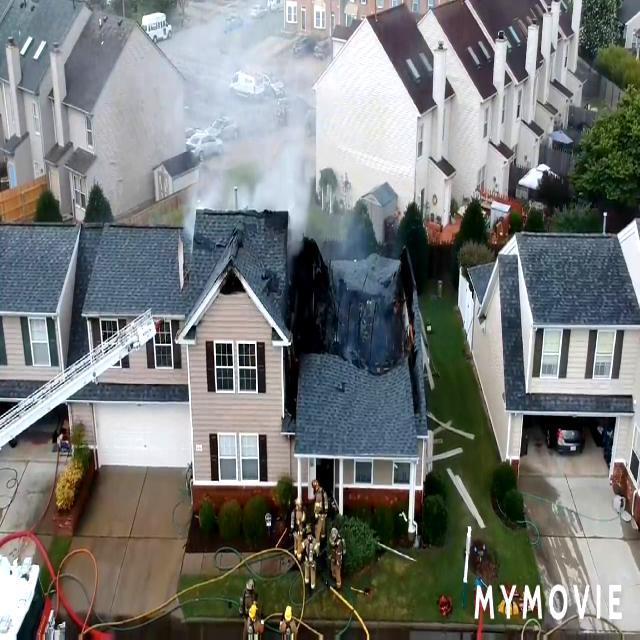Smoke: (123, 0, 336, 256)
